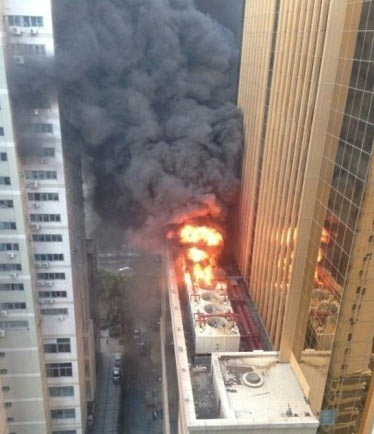fire: (172, 218, 226, 287)
